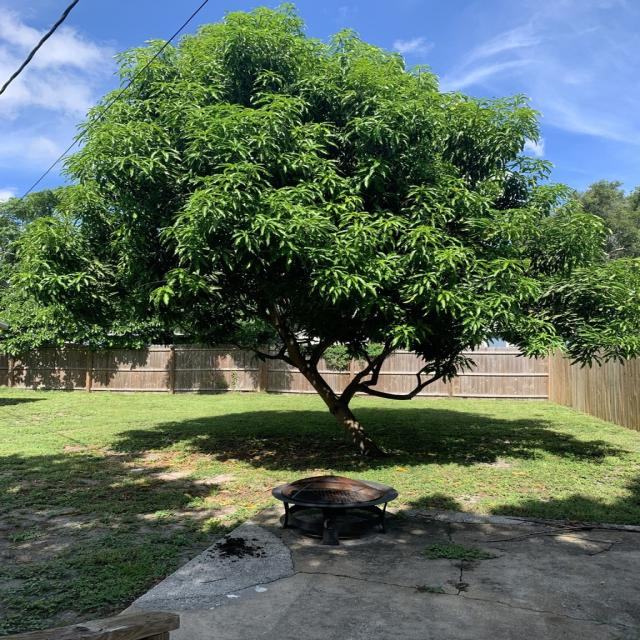Mango-Tree: (26, 17, 613, 452)
